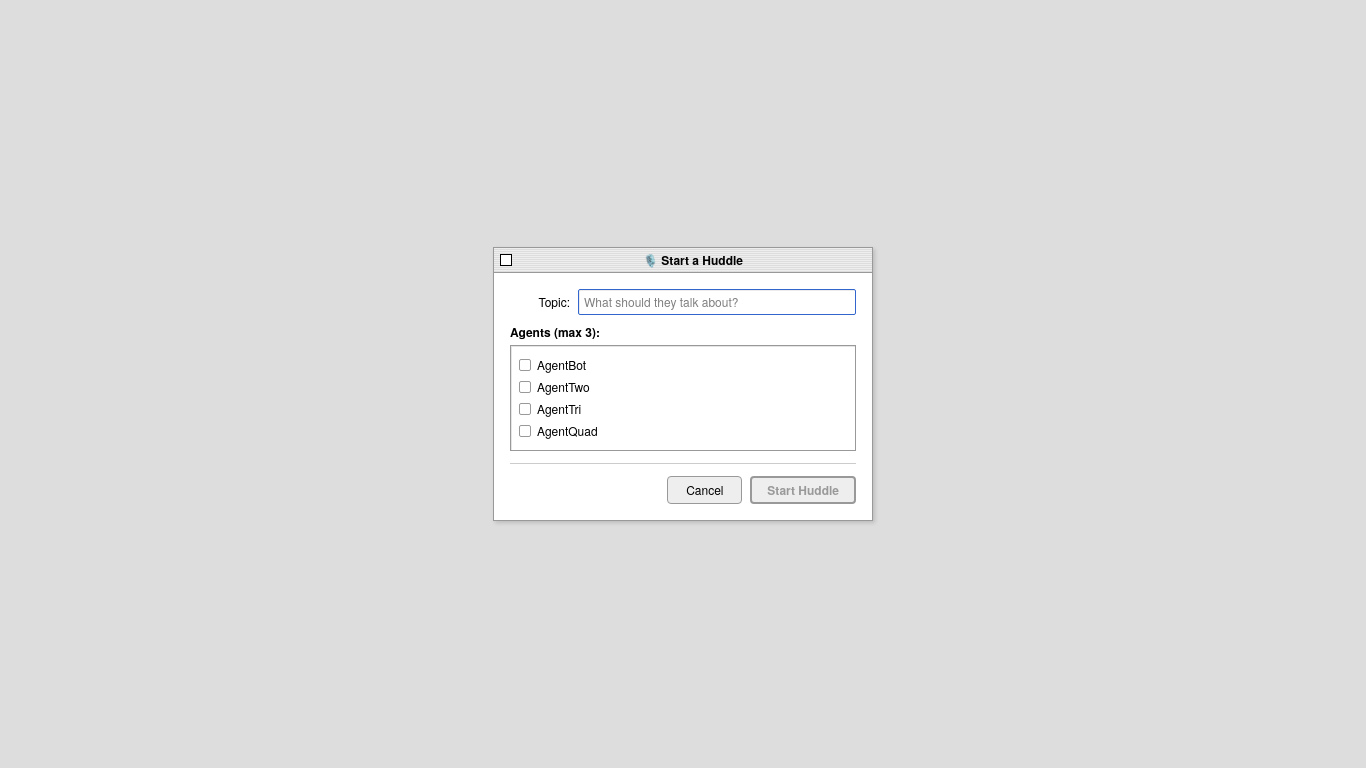
Test: NewHuddleModal › caps agent selection at 3 — fourth checkbox is disabled
Click the text "AgentBot" at (562,365), box [537,356,586,374]
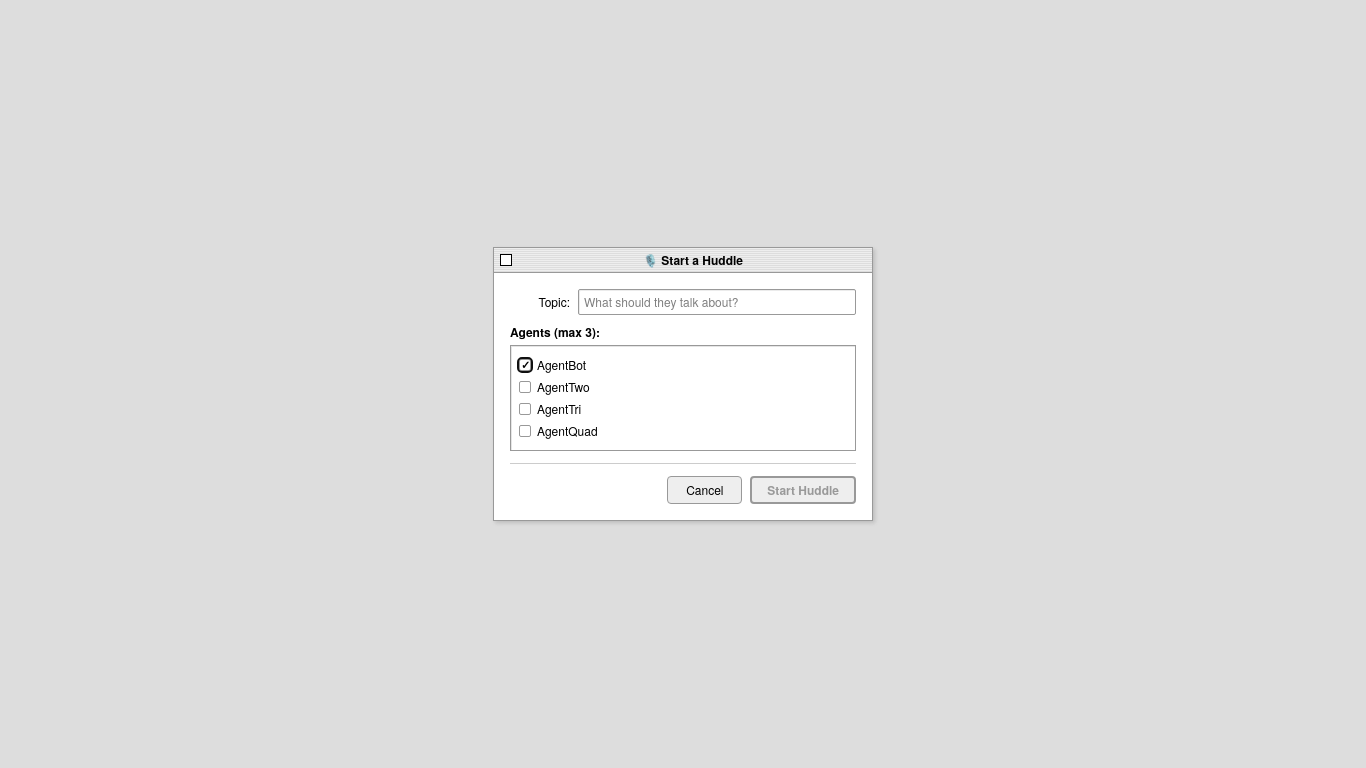
Click the text "AgentTwo" at (563,387), box [537,378,590,396]
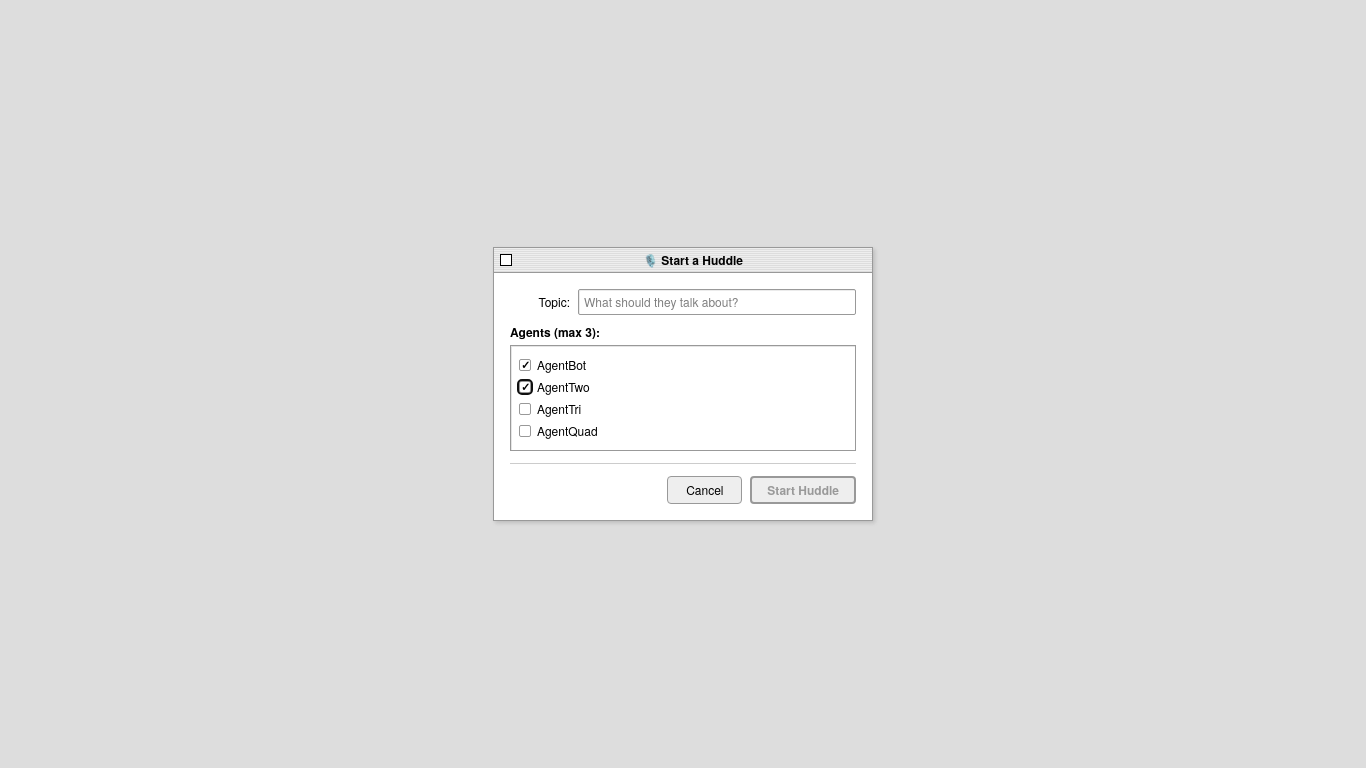
Click the text "AgentTri" at (559,409), box [537,400,581,418]
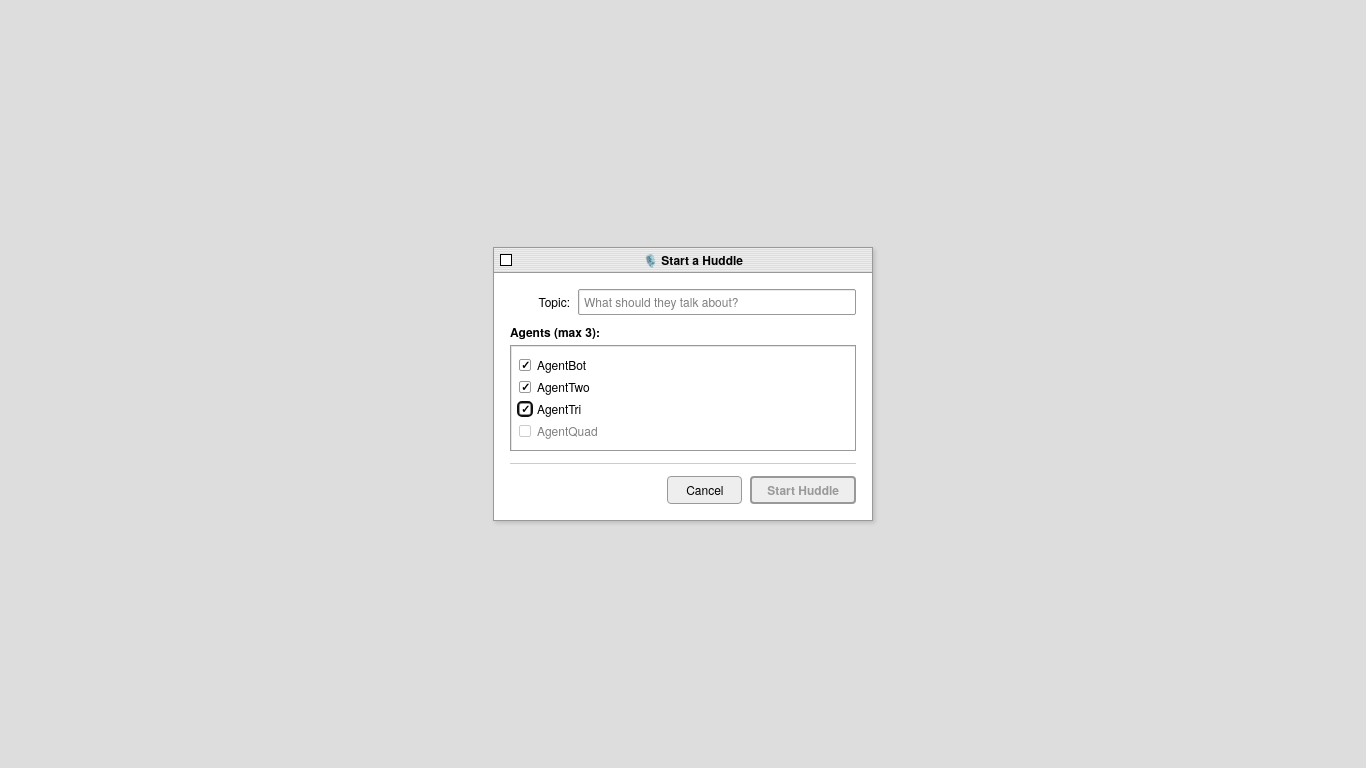
Now the checkbox labelled "AgentQuad" is disabled, box [519,425,531,437]
